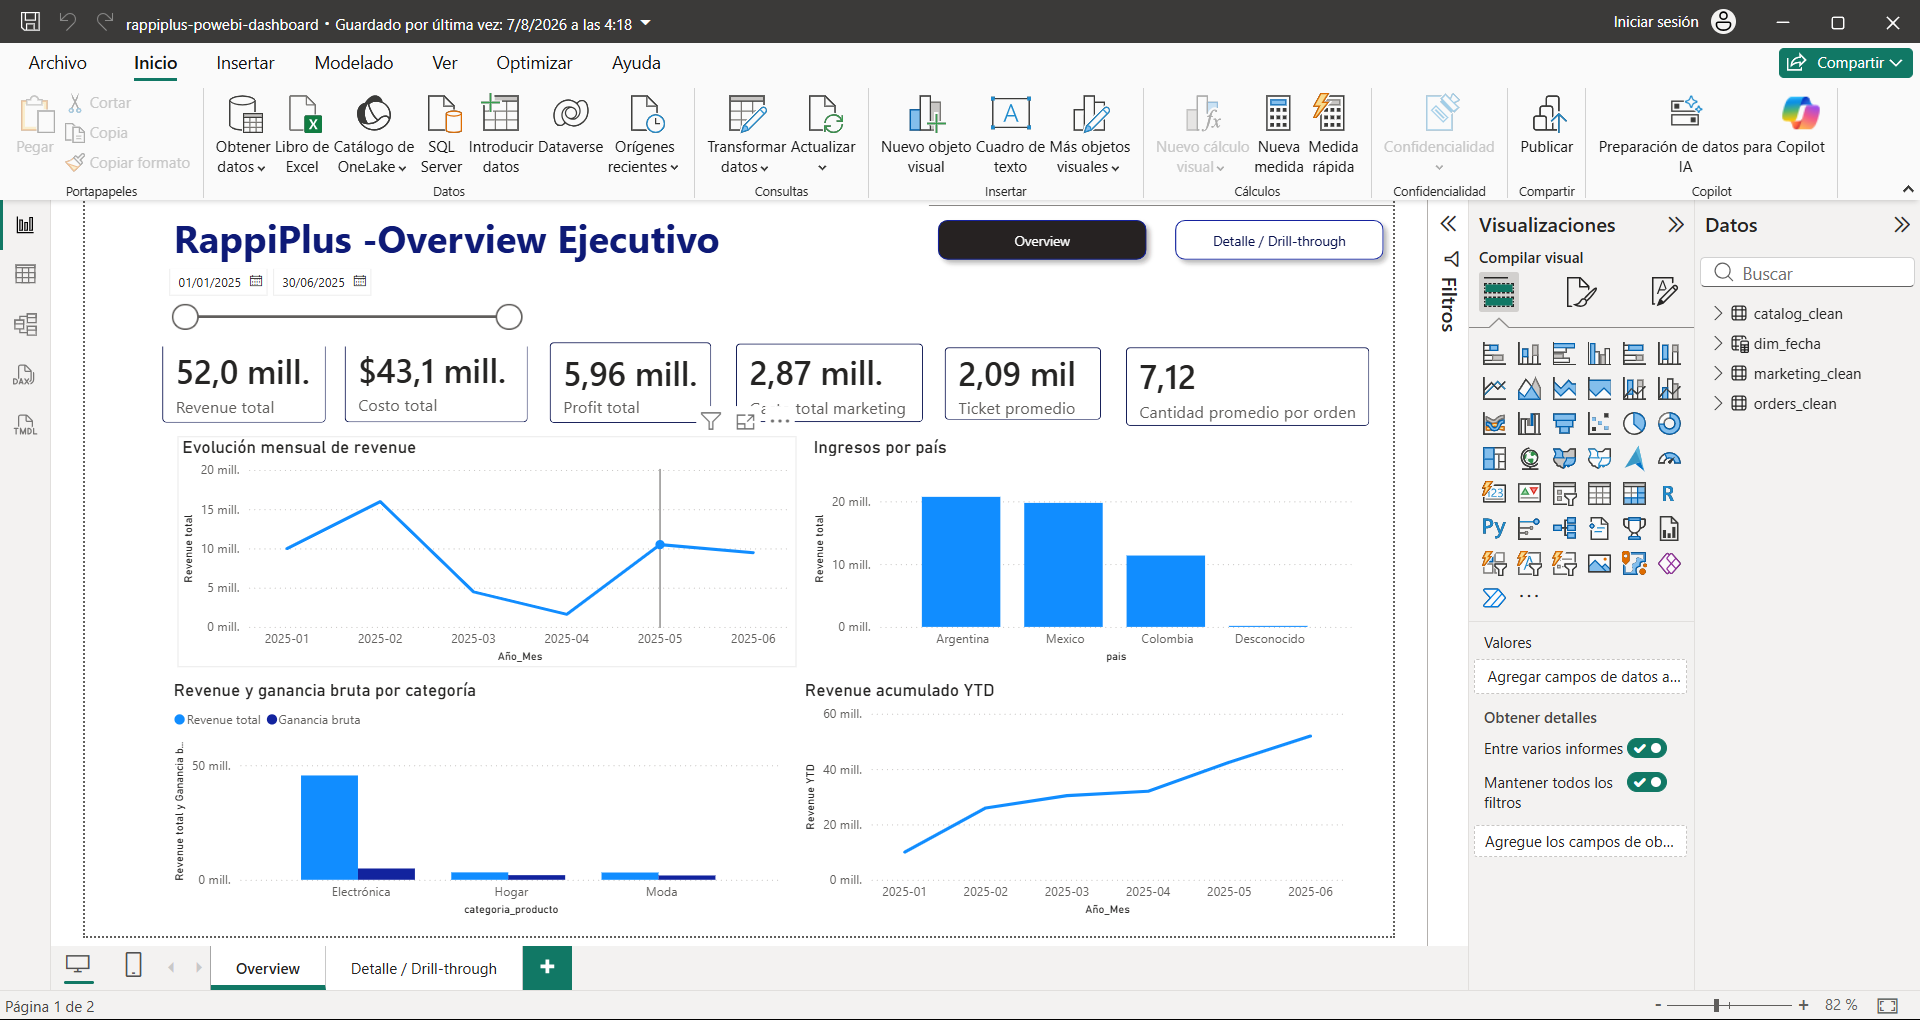

Layout of this report page (visuals, bound fields, positions):
{"tool":"powerbi","page":{"name":"Overview","canvas":[1280,720],"ordinal":0},"visuals":[{"type":"cardVisual","fields":{"Data":["orders_clean.Revenue total"]},"box":[58.1,120.7,194.6,114.1],"z":0},{"type":"cardVisual","fields":{"Data":["orders_clean.Costo total"]},"box":[236.9,119.2,213.1,116.2],"z":1000},{"type":"cardVisual","fields":{"Data":["marketing_clean.Gasto total marketing"]},"box":[619.9,123.7,217.6,111.8],"z":2000},{"type":"cardVisual","fields":{"Data":["orders_clean.Profit total"]},"box":[438.1,122.2,192.2,113.2],"z":3000},{"type":"lineChart","title":"Evolución mensual de revenue","fields":{"Y":["orders_clean.Revenue total"],"Category":["dim_fecha.Año_Mes"]},"box":[90.9,231,605,226.5],"z":4000},{"type":"cardVisual","fields":{"Data":["orders_clean.Ticket promedio"]},"box":[824,126.7,187.8,105.8],"z":5000},{"type":"clusteredColumnChart","title":"Ingresos por país","fields":{"Category":["orders_clean.pais"],"Y":["orders_clean.Revenue total"]},"box":[707.8,231,536.4,226.5],"z":6000},{"type":"clusteredColumnChart","title":"Revenue y ganancia bruta por categoría","fields":{"Category":["catalog_clean.categoria_producto"],"Y":["orders_clean.Revenue total","orders_clean.Ganancia bruta"]},"box":[82,469.4,605,235.4],"z":7000},{"type":"cardVisual","fields":{"Data":["orders_clean.Cantidad promedio por orden"]},"box":[1001.4,126.7,272.7,111.8],"z":8000},{"type":"lineChart","title":"Revenue acumulado YTD","fields":{"Y":["orders_clean.Revenue YTD"],"Category":["dim_fecha.Año_Mes"]},"box":[698.9,469.4,536.4,235.4],"z":9000},{"type":"pageNavigator","box":[825.5,4.5,454.5,62.6],"z":10000},{"type":"slicer","fields":{"Values":["dim_fecha.Fecha"]},"box":[69.7,41.5,366.3,100.9],"z":11000},{"type":"textbox","box":[82,7.5,551.3,59.6],"z":12000}]}

Visuals, with their boxes on the page's 1280x720 design canvas (x1, y1, x2, y2). These are canvas units, not pixel positions in the 1920x1020 screenshot, which may show the page scaled, cropped or inside an application window:
cardVisual - orders_clean.Revenue total: select_region(58, 121, 253, 235)
cardVisual - orders_clean.Costo total: select_region(237, 119, 450, 235)
cardVisual - marketing_clean.Gasto total marketing: select_region(620, 124, 838, 236)
cardVisual - orders_clean.Profit total: select_region(438, 122, 630, 235)
"Evolución mensual de revenue" lineChart: select_region(91, 231, 696, 458)
cardVisual - orders_clean.Ticket promedio: select_region(824, 127, 1012, 232)
"Ingresos por país" clusteredColumnChart: select_region(708, 231, 1244, 458)
"Revenue y ganancia bruta por categoría" clusteredColumnChart: select_region(82, 469, 687, 705)
cardVisual - orders_clean.Cantidad promedio por orden: select_region(1001, 127, 1274, 238)
"Revenue acumulado YTD" lineChart: select_region(699, 469, 1235, 705)
pageNavigator: select_region(826, 4, 1280, 67)
slicer - dim_fecha.Fecha: select_region(70, 42, 436, 142)
textbox: select_region(82, 8, 633, 67)
